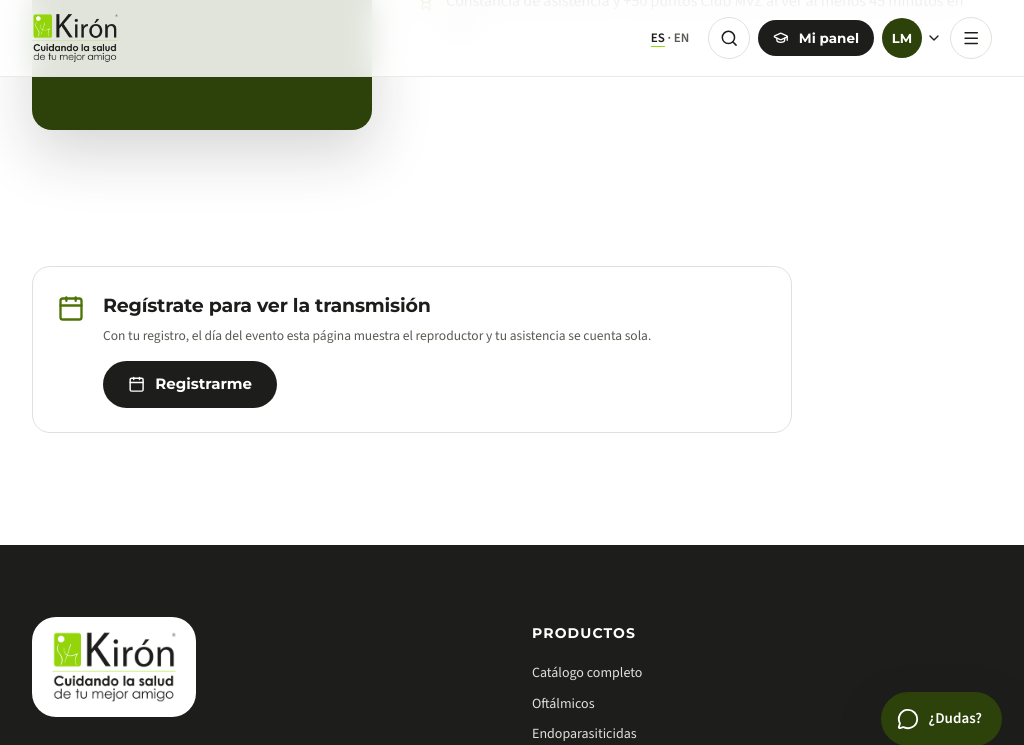
Test: landing del webinar › registro con la API: el médico pasa a 'Ya estás registrado'
This screenshot has width=1024, height=745.
(page scrolled)
Click the button "Registrarme".
click(190, 384)  # box top-left (103, 361), bottom-right (277, 408)
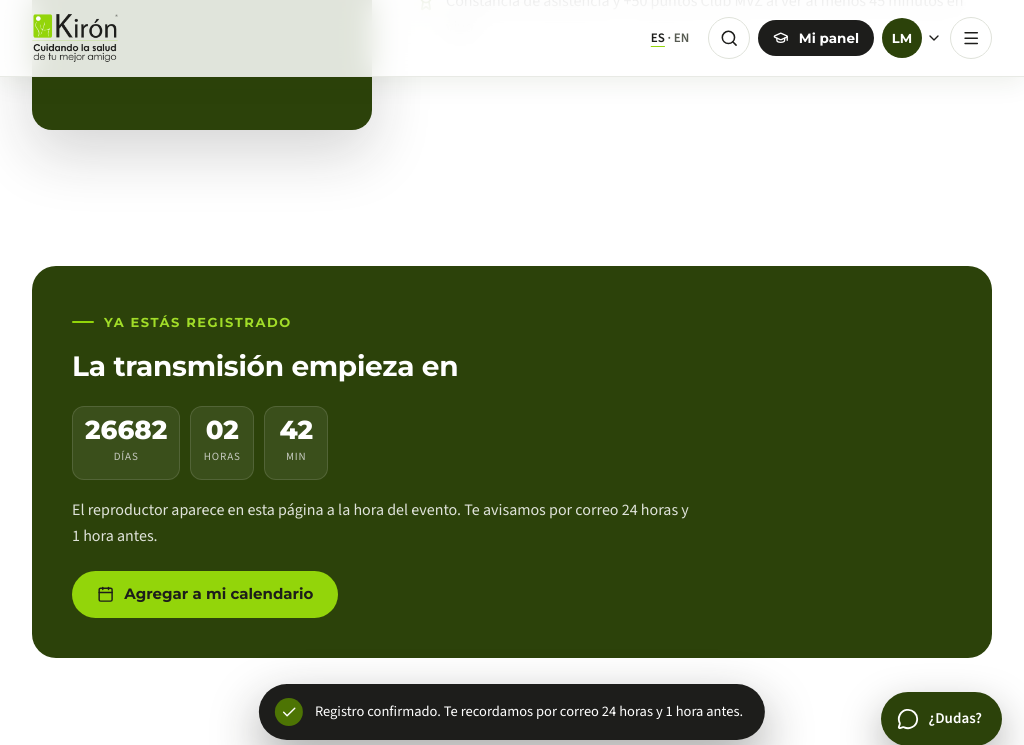
Check: the text "Ya estás registrado" is shown, box top-left (72, 314), bottom-right (292, 330)
Check: the text "Registro confirmado. Te recordamos por correo 24 horas y 1 hora antes." is shown, box top-left (315, 702), bottom-right (743, 722)
